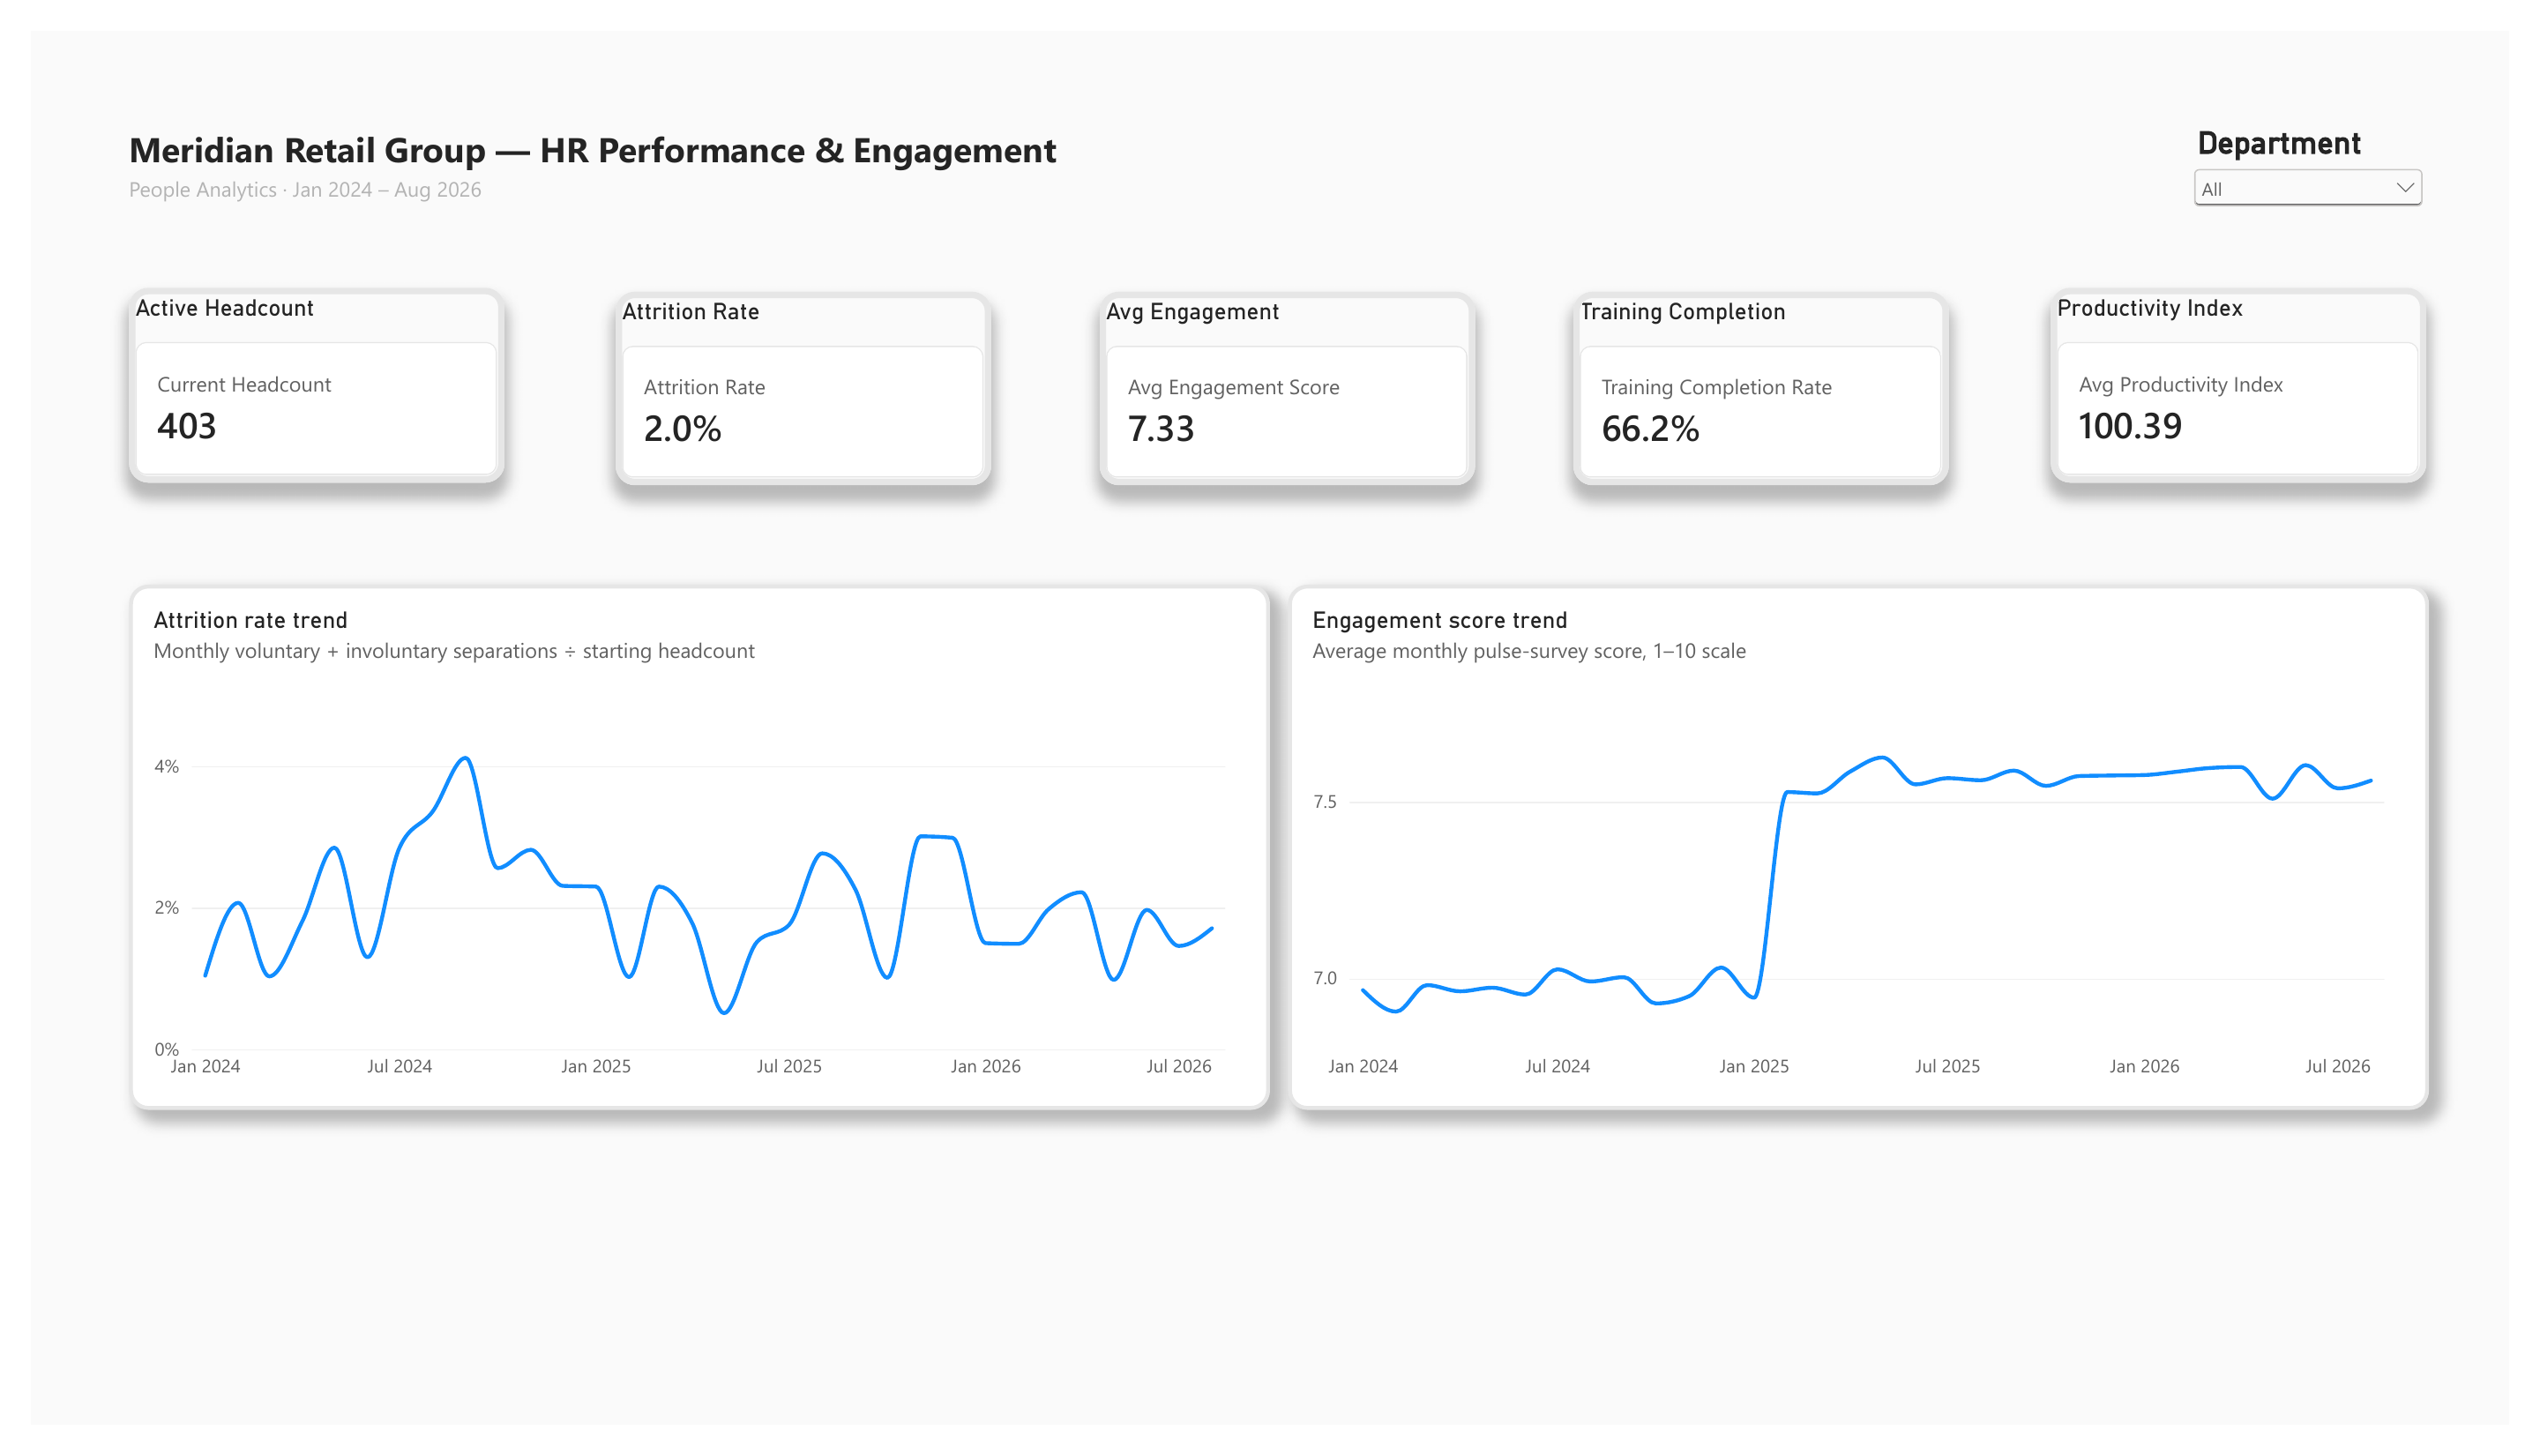

Layout of this report page (visuals, bound fields, positions):
{"tool":"powerbi","page":{"name":"Overview","canvas":[1920,1080],"ordinal":0},"visuals":[{"type":"textbox","box":[76.2,73.1,817,39.4],"z":0},{"type":"textbox","box":[76.2,112,817,36.5],"z":1000},{"type":"slicer","fields":{"Values":["dim_department.Department"]},"box":[1671.1,73.1,186.7,75.9],"z":2000},{"type":"cardVisual","title":"Active Headcount","fields":{"Data":["_Measures.Current Headcount"]},"box":[76.2,199.2,291,150.9],"z":3000},{"type":"cardVisual","title":"Attrition Rate","fields":{"Data":["_Measures.Attrition Rate"]},"box":[452.8,202.3,291,149.4],"z":4000},{"type":"cardVisual","title":"Avg Engagement","fields":{"Data":["_Measures.Avg Engagement Score"]},"box":[827.7,202.3,291,149.4],"z":5000},{"type":"cardVisual","title":"Training Completion","fields":{"Data":["_Measures.Training Completion Rate"]},"box":[1194.9,202.3,291,149.4],"z":6000},{"type":"cardVisual","title":"Productivity Index","fields":{"Data":["_Measures.Avg Productivity Index"]},"box":[1565.3,199.2,291,150.9],"z":7000},{"type":"lineChart","title":"Attrition rate trend","fields":{"Category":["dim_date.MonthYearLabel"],"Y":["_Measures.Attrition Rate"]},"box":[76.2,429.4,883.8,406.1],"z":8000},{"type":"lineChart","title":"Engagement score trend","fields":{"Category":["dim_date.MonthYearLabel"],"Y":["_Measures.Avg Engagement Score"]},"box":[974,429.4,883.8,406.1],"z":9000}]}

Visuals, with their boxes in screenshot pixels (x1, y1, x2, y2), scaled from the page's 1920x1080 canvas onto the 2540x1456 screenshot:
textbox: [x1=101, y1=99, x2=1182, y2=152]
textbox: [x1=101, y1=151, x2=1182, y2=200]
slicer - dim_department.Department: [x1=2211, y1=99, x2=2458, y2=201]
"Active Headcount" cardVisual: [x1=101, y1=269, x2=486, y2=472]
"Attrition Rate" cardVisual: [x1=599, y1=273, x2=984, y2=474]
"Avg Engagement" cardVisual: [x1=1095, y1=273, x2=1480, y2=474]
"Training Completion" cardVisual: [x1=1580, y1=273, x2=1966, y2=474]
"Productivity Index" cardVisual: [x1=2071, y1=269, x2=2455, y2=472]
"Attrition rate trend" lineChart: [x1=101, y1=579, x2=1270, y2=1126]
"Engagement score trend" lineChart: [x1=1289, y1=579, x2=2458, y2=1126]
